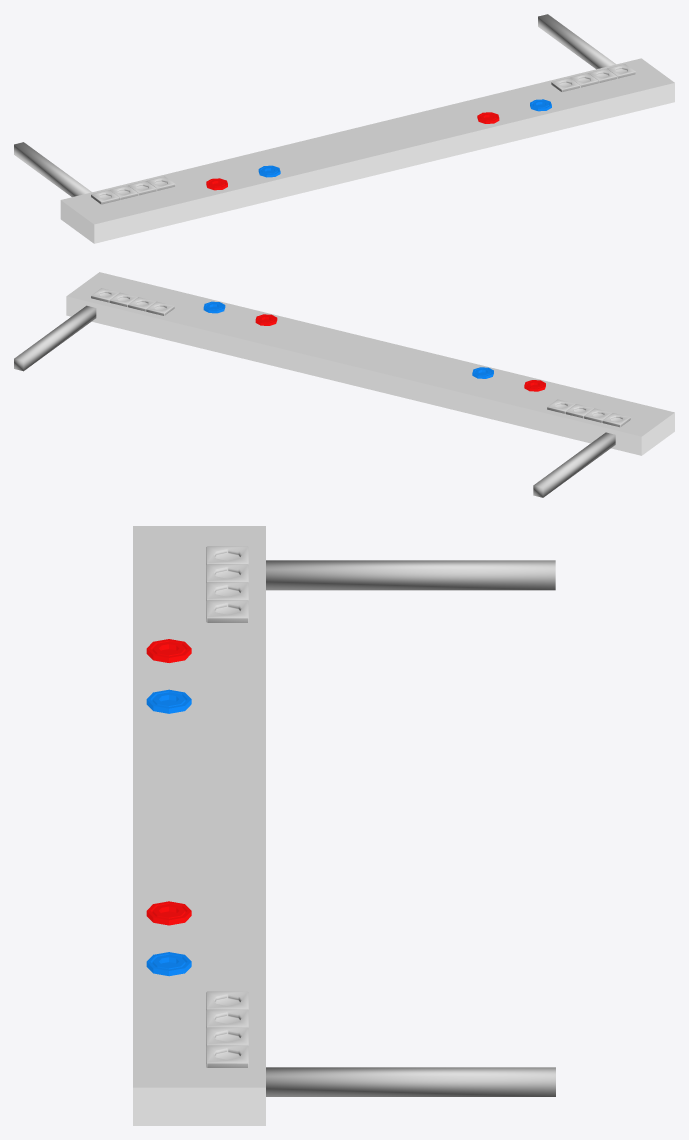
3 renders of one model, top to bottom at view 1: azimuth 30°, elevation 25°; view 2: azimuth 150°, elevation 25°; view 3: azimuth 270°, elevation 25°, orthographic. The views are drawn at different scales.
Visible parts, largest first — view 1: Cube.002; view 2: Cube.002; view 3: Cube.002.
Boxes of the visible parts, bbox=[...] form: Cube.002: bbox=[14, 14, 674, 243]; Cube.002: bbox=[14, 272, 674, 497]; Cube.002: bbox=[133, 526, 555, 1125].
Size of the model in its own units: 220 by 7.96 by 70.03.
